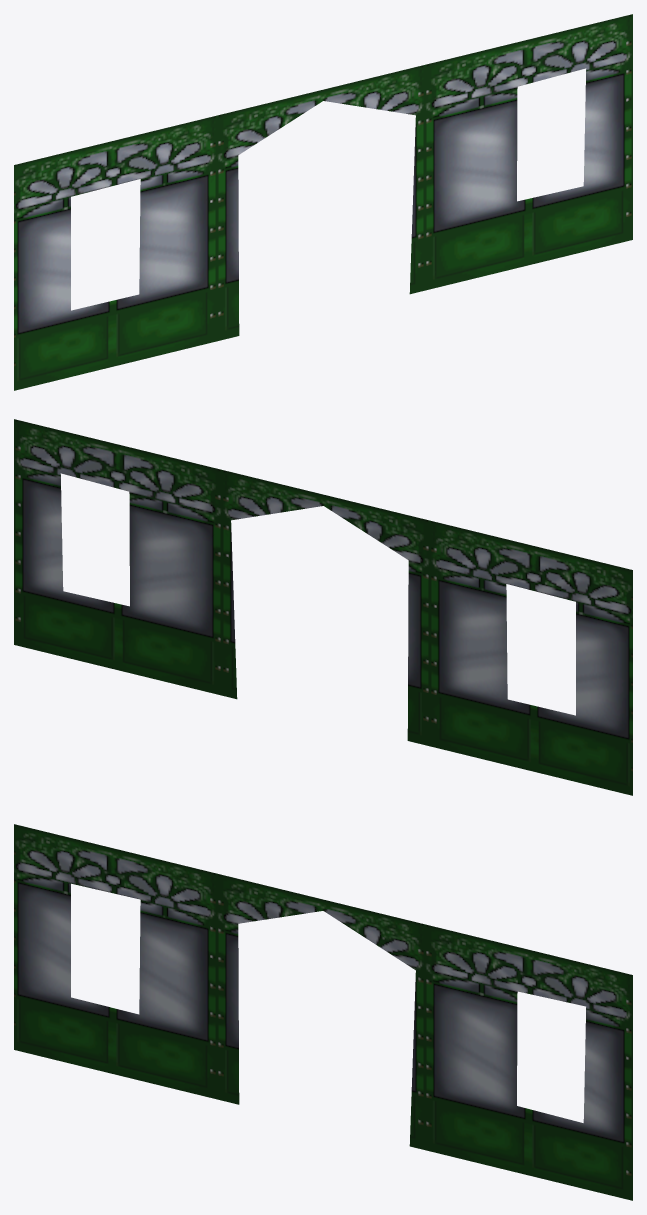
File: W_AI3_fOf [GrünesMetall]_313.glb
The picture shows the model from 3 angles, top to bottom: view 1: azimuth 30°, elevation 25°; view 2: azimuth 150°, elevation 25°; view 3: azimuth 330°, elevation 25°; orthographic projection.
Parts seen in each view (by area): view 1: polySurfaceShape771; view 2: polySurfaceShape771; view 3: polySurfaceShape771.
Boxes of the visible parts, <box> form: polySurfaceShape771: <box>14,14,632,390</box>; polySurfaceShape771: <box>14,419,632,795</box>; polySurfaceShape771: <box>14,824,632,1200</box>.
Bounding box in the file's own units: 1 × 0.3486 × 1.52e-08.
Materials: 1 (1 with a texture image).
